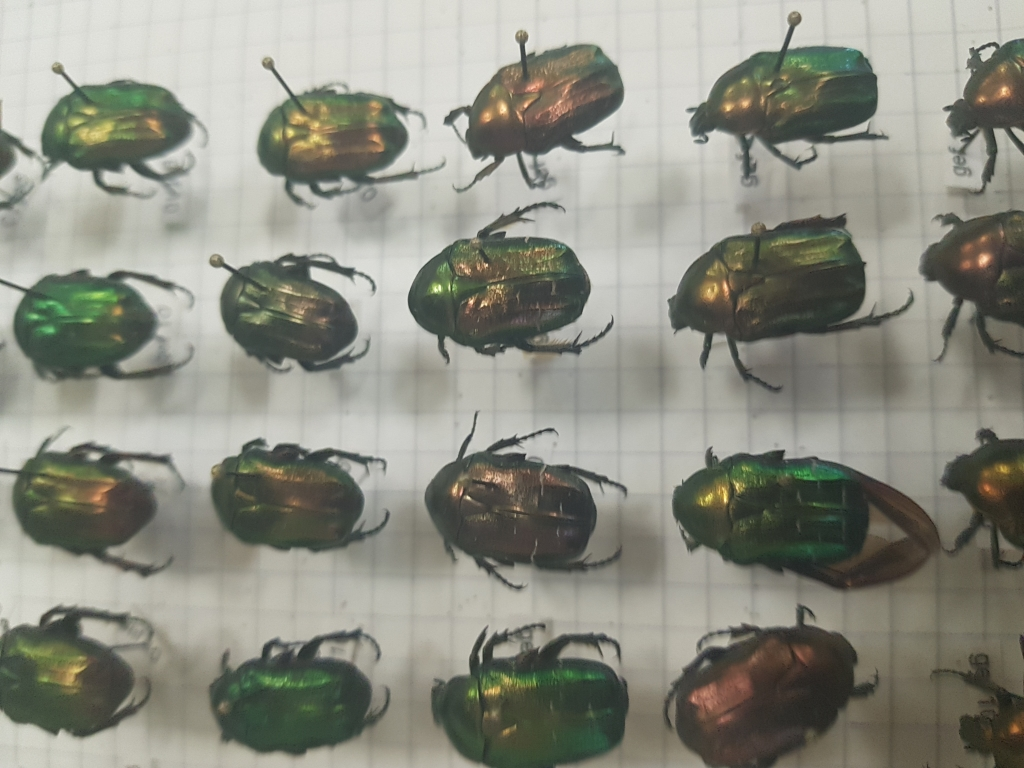Cetonia_aurata: (390, 195, 629, 370)
